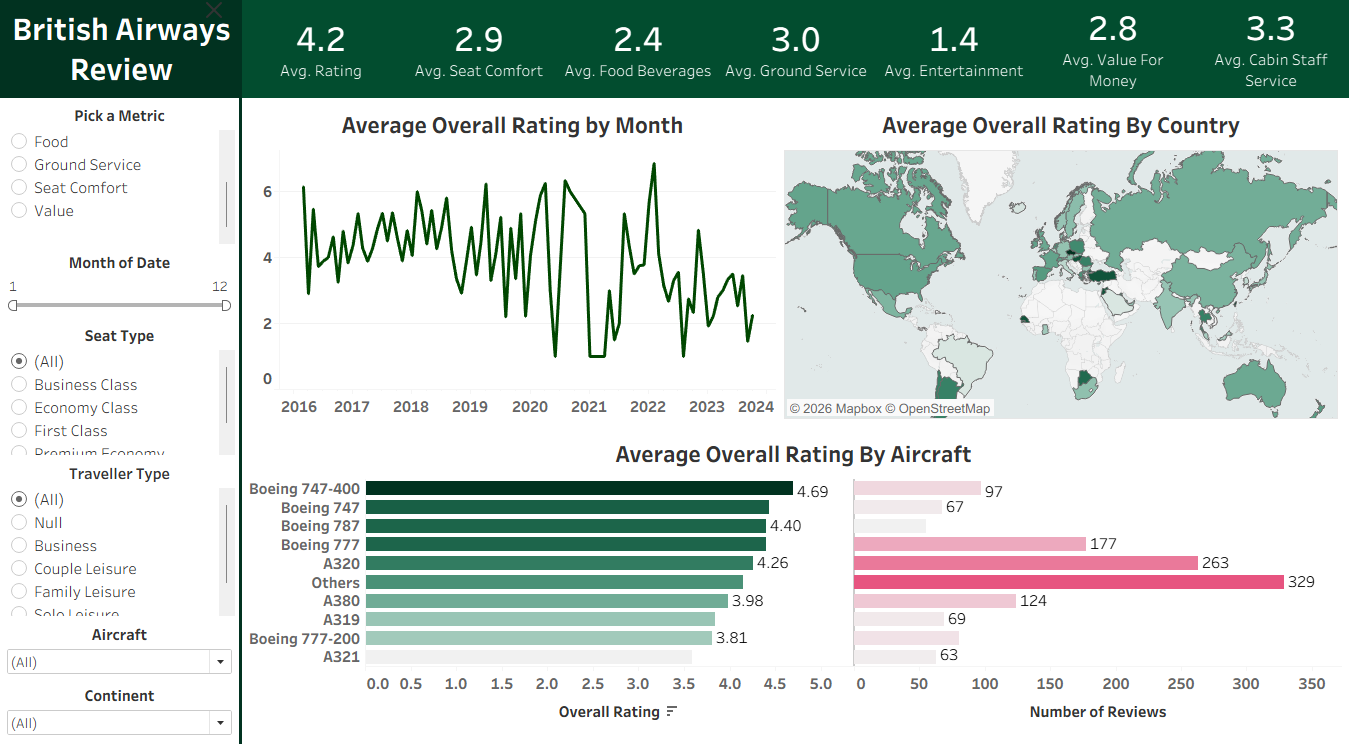

Layout of this report page (visuals, bound fields, positions):
{"tool":"tableau","page":{"name":"Dashboard 1","canvas":[1350,750],"ordinal":0},"visuals":[{"type":"text","box":[0,0,243,100]},{"type":"blank","box":[239,0,3,750]},{"type":"worksheet","title":"Summary","mark":"Automatic","box":[242,0,1108,100]},{"type":"parameter","param":"[Parameters].[Parameter 1]","box":[0,103,239,147]},{"type":"worksheet","title":"Month","mark":"Automatic","rows":["Calculation_0691629030432769"],"cols":["date"],"box":[245,103,535,322]},{"type":"worksheet","title":"Map","mark":"Automatic","box":[780,103,562,322]},{"type":"filter","title":"Map","param":"[federated.1p6ajck1995ams10v7re0008gfqu].[mn:date:qk]","box":[0,250,239,73]},{"type":"filter","title":"Map","param":"[federated.1p6ajck1995ams10v7re0008gfqu].[none:seat_type:nk]","box":[0,323,239,138]},{"type":"worksheet","title":"Aircraft","mark":"Automatic","cols":["Calculation_0691629030432769","ba_reviews.csv_733BCD9D7B614F80BDA154AAB422C3C8"],"box":[245,436,1097,295]},{"type":"filter","title":"Map","param":"[federated.1p6ajck1995ams10v7re0008gfqu].[none:traveller_type:nk]","box":[0,461,239,161]},{"type":"filter","title":"Map","param":"[federated.1p6ajck1995ams10v7re0008gfqu].[Aircraft (group)]","box":[0,622,239,61]},{"type":"filter","title":"Map","param":"[federated.1p6ajck1995ams10v7re0008gfqu].[none:Continent:nk]","box":[0,683,239,61]}]}

Visuals, with their boxes in screenshot pixels (x1, y1, x2, y2), scaled from the page's 1350x750 canvas onto the 1349x744 screenshot:
text: {"x1": 0, "y1": 0, "x2": 243, "y2": 99}
blank: {"x1": 239, "y1": 0, "x2": 242, "y2": 743}
"Summary" worksheet: {"x1": 242, "y1": 0, "x2": 1348, "y2": 99}
parameter: {"x1": 0, "y1": 102, "x2": 239, "y2": 248}
"Month" worksheet: {"x1": 245, "y1": 102, "x2": 779, "y2": 422}
"Map" worksheet: {"x1": 779, "y1": 102, "x2": 1341, "y2": 422}
"Map" filter: {"x1": 0, "y1": 248, "x2": 239, "y2": 320}
"Map" filter: {"x1": 0, "y1": 320, "x2": 239, "y2": 457}
"Aircraft" worksheet: {"x1": 245, "y1": 433, "x2": 1341, "y2": 725}
"Map" filter: {"x1": 0, "y1": 457, "x2": 239, "y2": 617}
"Map" filter: {"x1": 0, "y1": 617, "x2": 239, "y2": 678}
"Map" filter: {"x1": 0, "y1": 678, "x2": 239, "y2": 738}
